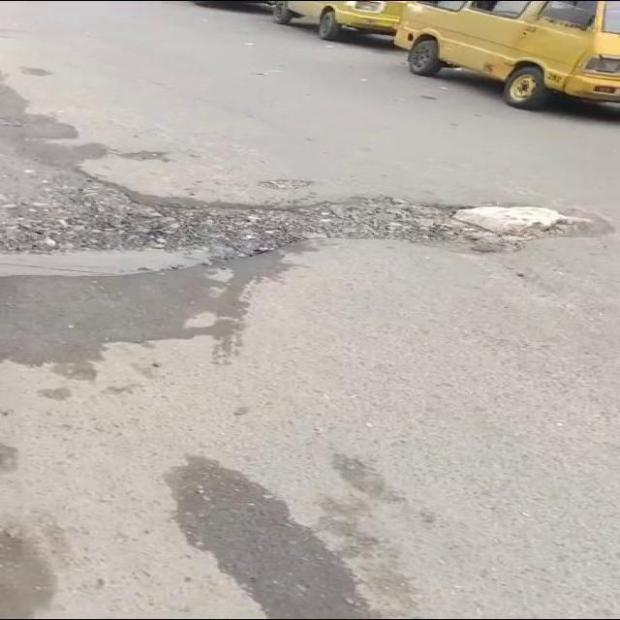lubang: (0, 154, 609, 276), (258, 178, 313, 191)
